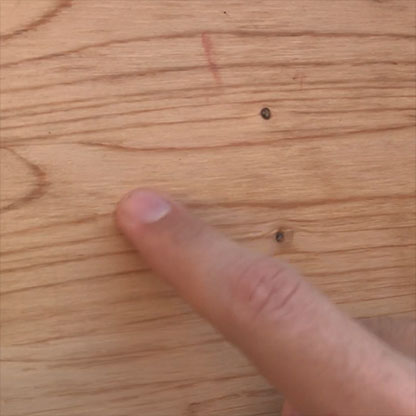fingertip: (104, 179, 196, 252)
